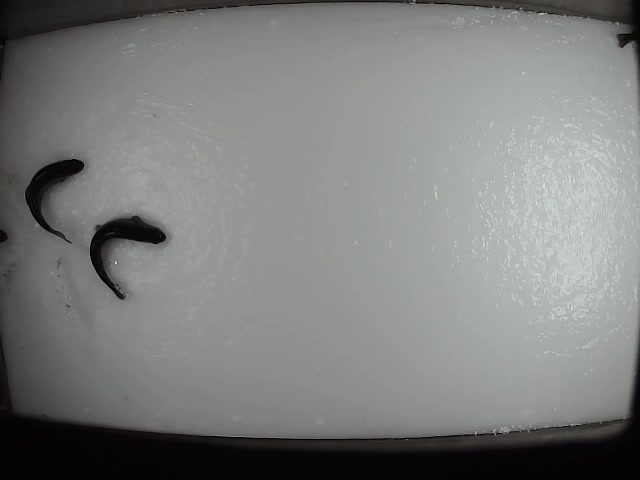Fish: (89, 216, 166, 300), (25, 159, 84, 244)
